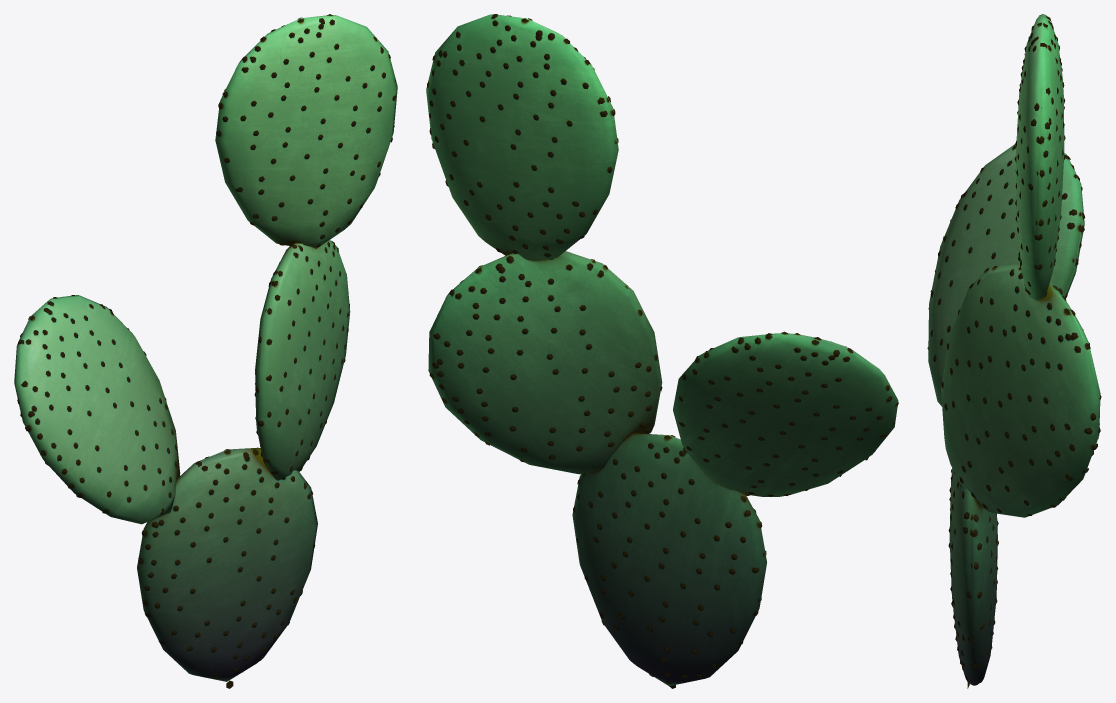
File: Cactos Palma.fbx
The picture shows the model from 3 angles, left to right: view 1: azimuth 30°, elevation 25°; view 2: azimuth 150°, elevation 25°; view 3: azimuth 270°, elevation 25°; orthographic projection. The views are drawn at different scales.
Visible parts, largest first — view 1: Cacto_Palma; view 2: Cacto_Palma; view 3: Cacto_Palma.
Part boxes in pixels (x1,y1,x2,y2): Cacto_Palma: (14, 14, 397, 688); Cacto_Palma: (426, 14, 898, 688); Cacto_Palma: (927, 14, 1101, 688).
Size of the model in its own units: 175 by 256 by 55.7.
